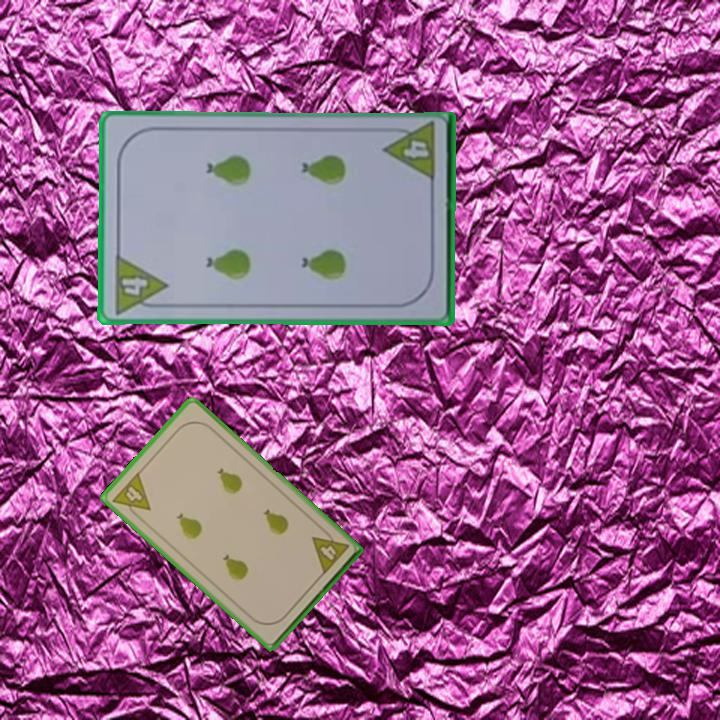4p: (110, 252, 170, 317), (381, 120, 438, 185), (109, 468, 153, 523), (308, 524, 352, 578)
